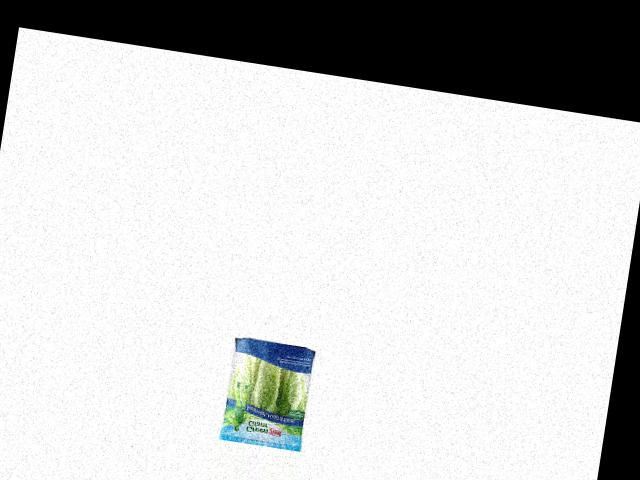lettuce: (217, 331, 318, 447)
